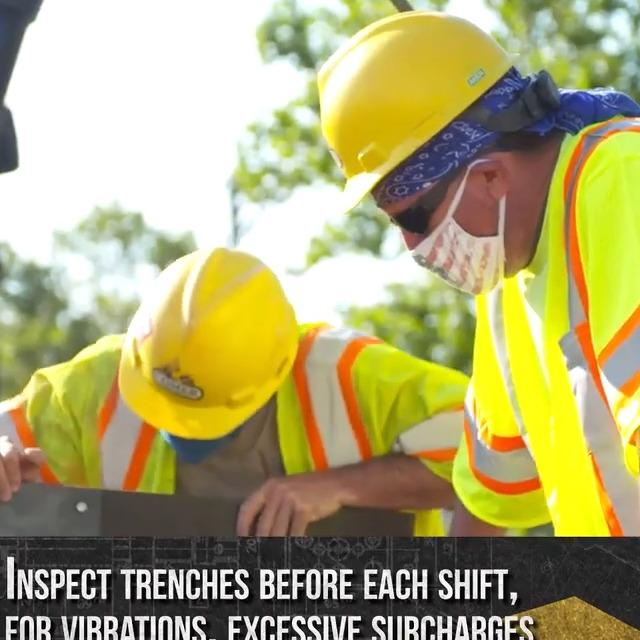Hardhat: (316, 9, 516, 212), (119, 248, 302, 440)
Mask: (408, 158, 511, 299), (164, 433, 242, 464)
Person: (314, 6, 640, 536), (0, 244, 468, 535)
Safety Vest: (0, 325, 465, 497), (453, 115, 640, 537)
